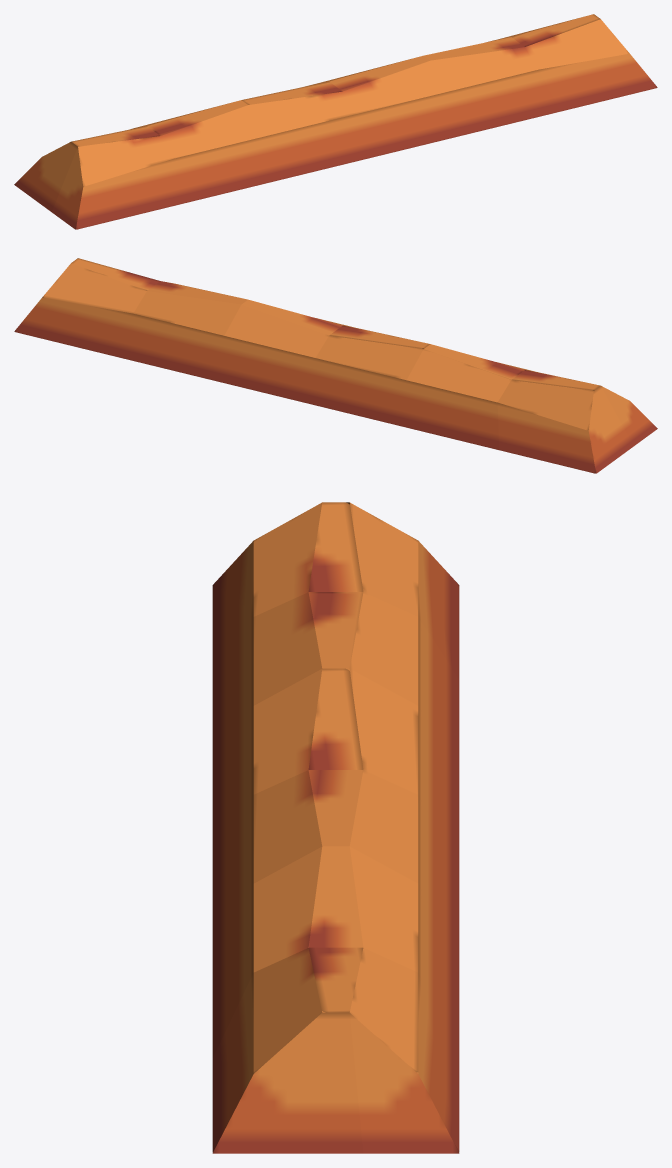
File: planterBig.fbx
3 renders of one model, top to bottom at view 1: azimuth 30°, elevation 25°; view 2: azimuth 150°, elevation 25°; view 3: azimuth 270°, elevation 25°, orthographic. The views are drawn at different scales.
Parts seen in each view (by area): view 1: cuboid; view 2: cuboid; view 3: cuboid.
Part boxes in pixels (bbox=[...]): cuboid: bbox=[14, 14, 657, 229]; cuboid: bbox=[14, 258, 657, 473]; cuboid: bbox=[212, 502, 459, 1153].
Bounding box in the file's own units: 612 × 56.25 × 112.
Materials: 1 (1 with a texture image).
